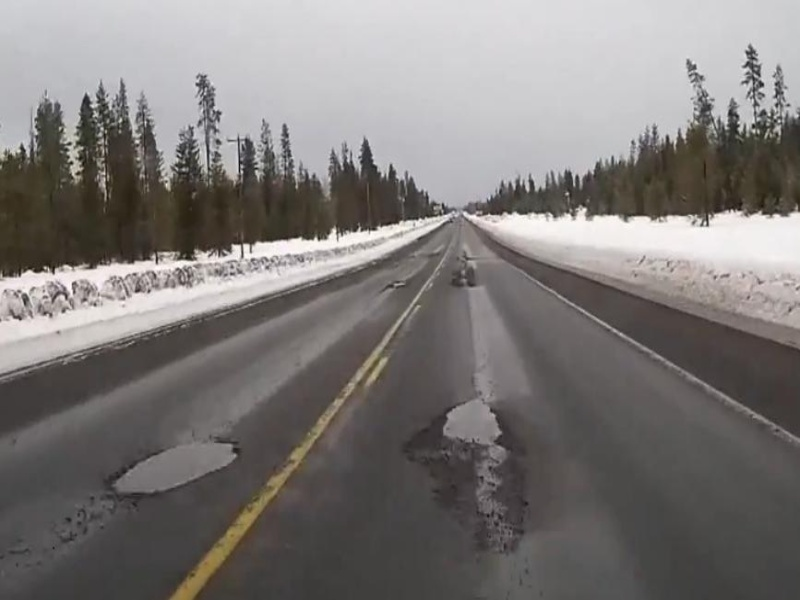pothole: (436, 444, 530, 563), (104, 436, 247, 498), (435, 395, 510, 448)
